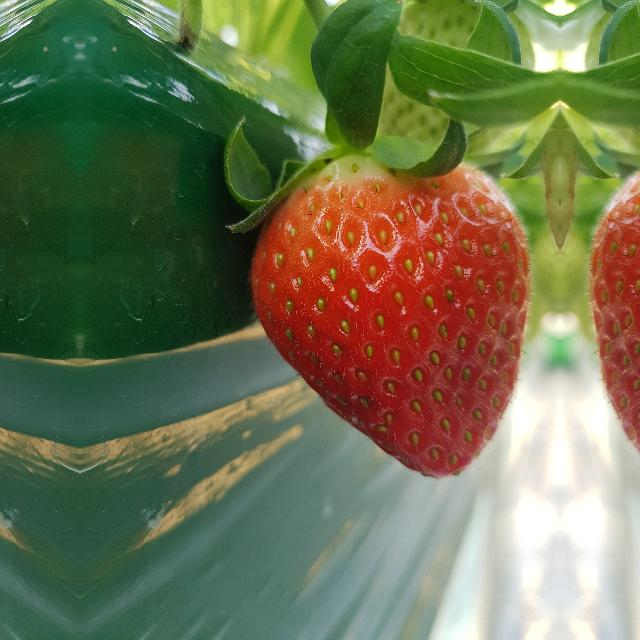Health_100: (248, 153, 534, 479)
